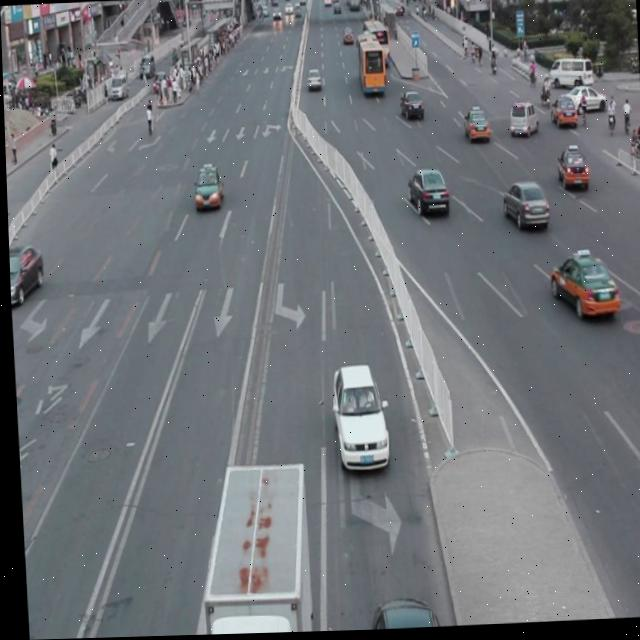bus: (191, 456, 309, 636)
car: (327, 361, 387, 472), (545, 252, 616, 322), (363, 593, 439, 631), (499, 180, 547, 236), (7, 241, 42, 306), (404, 168, 446, 220), (554, 148, 587, 194), (191, 165, 221, 213)
